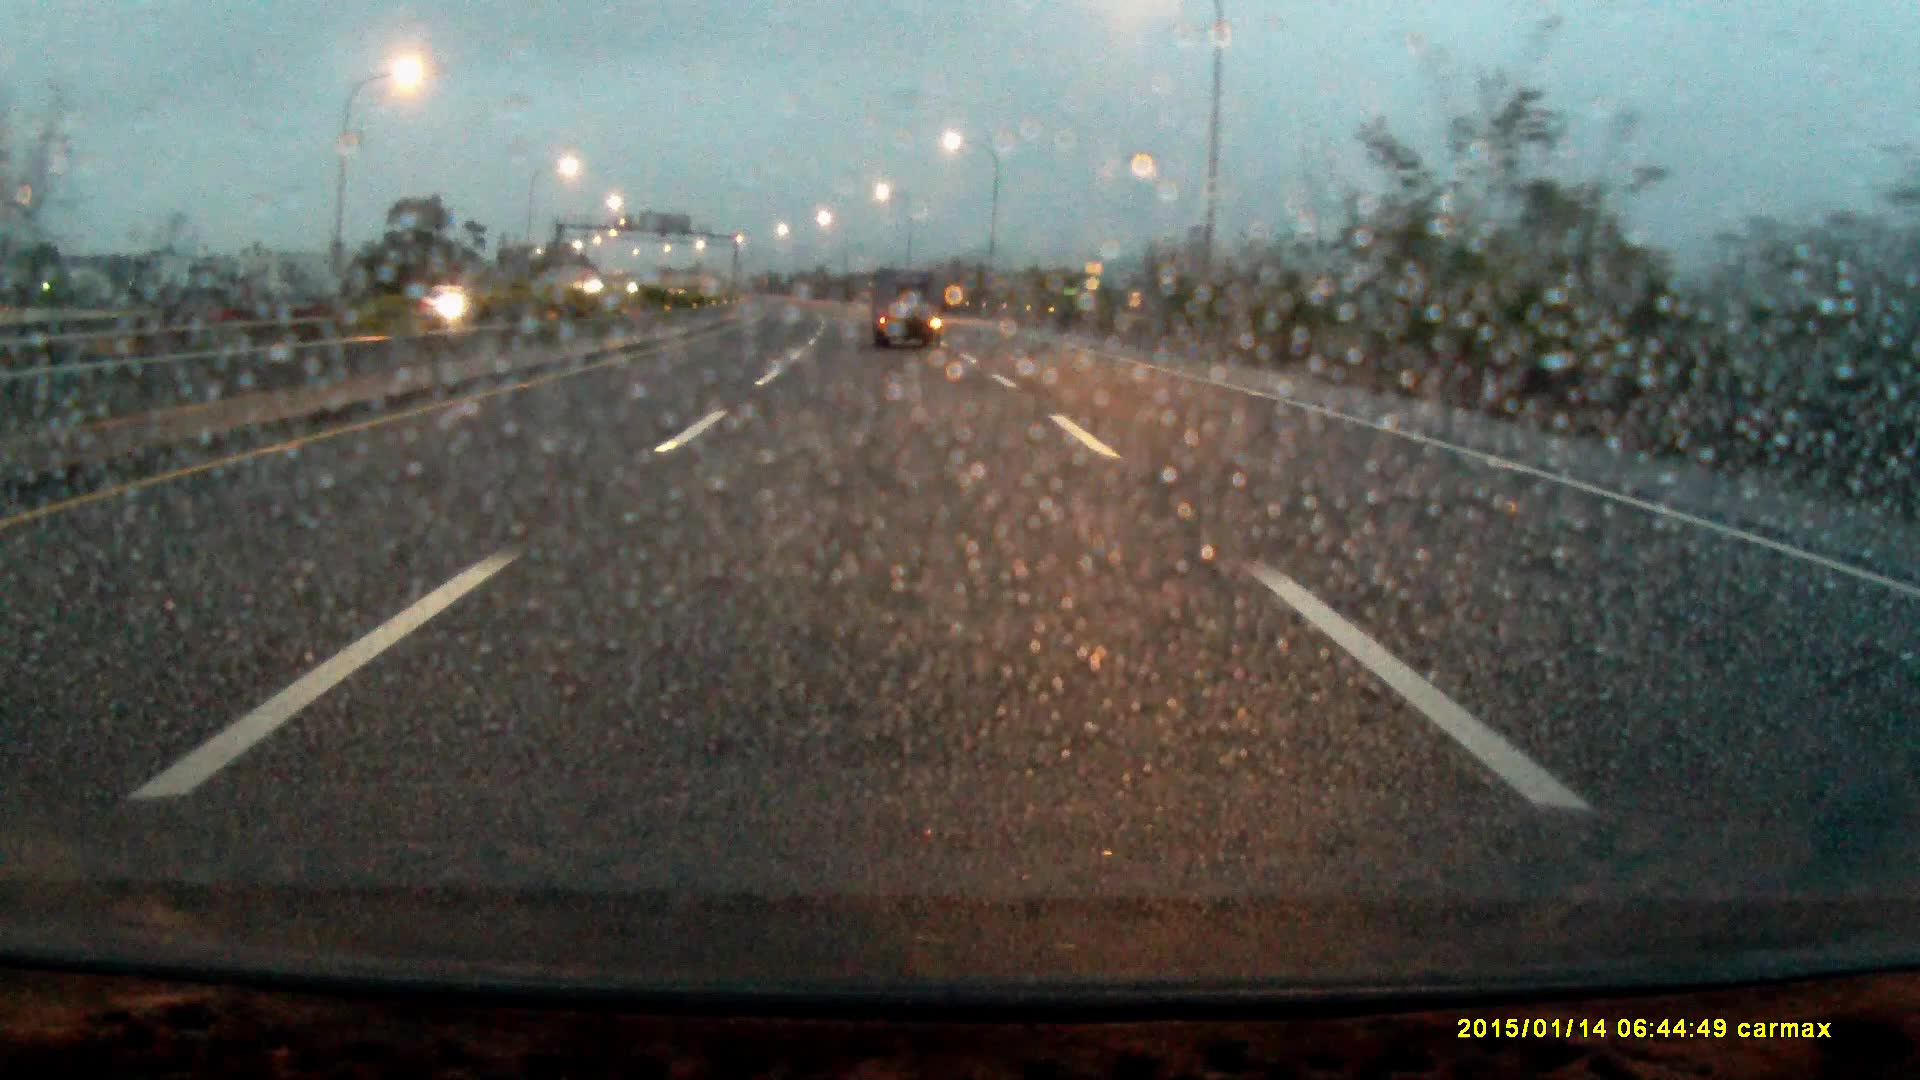vehicle: (870, 268, 939, 352), (409, 282, 480, 320)
